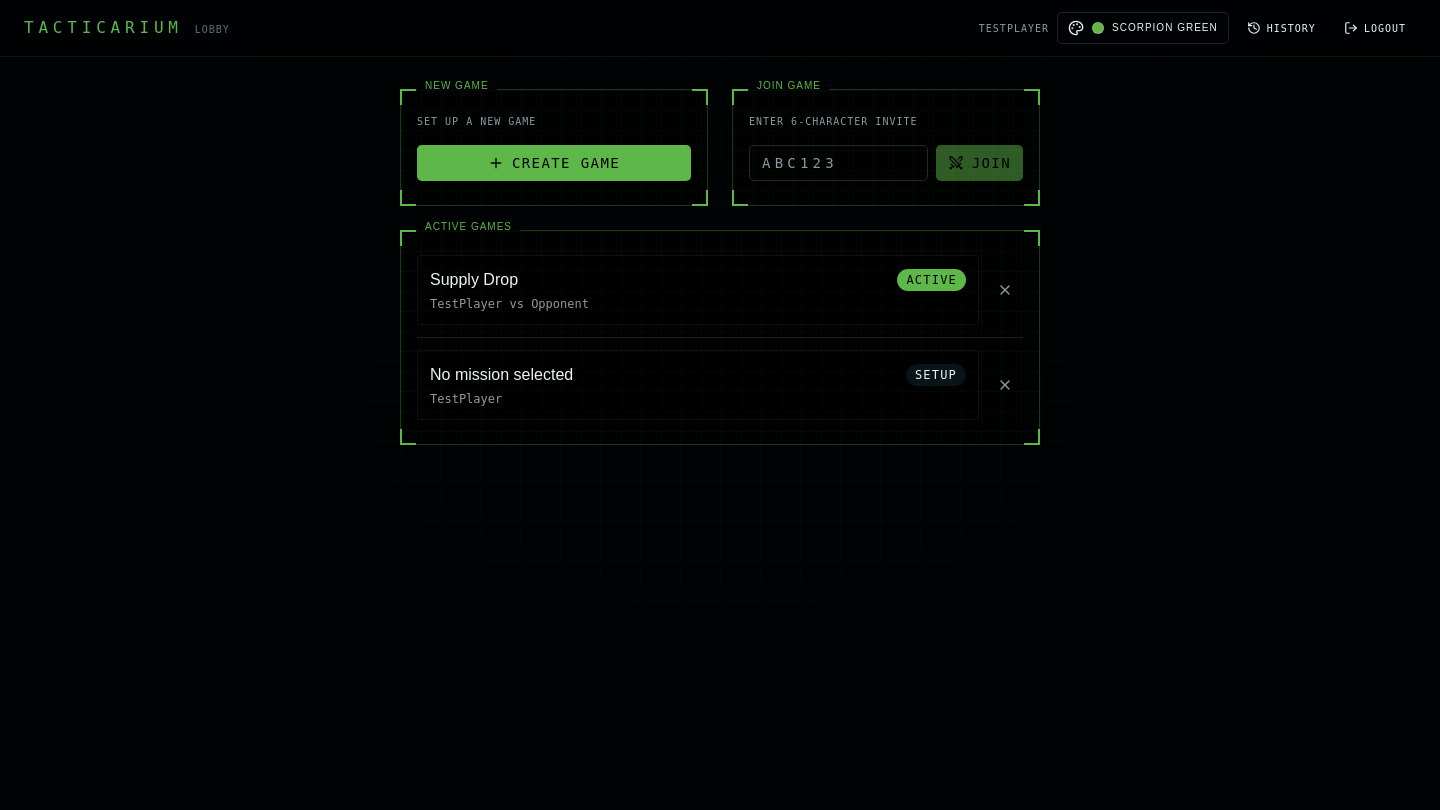
Test: LobbyPage - Remove Game › removes game from list after confirming
The image size is (1440, 810).
Expected: the text "Supply Drop" is shown, [430,268,518,292]
Click the 1st button named "Remove game".
click(1005, 290)  # box [987,272,1023,308]
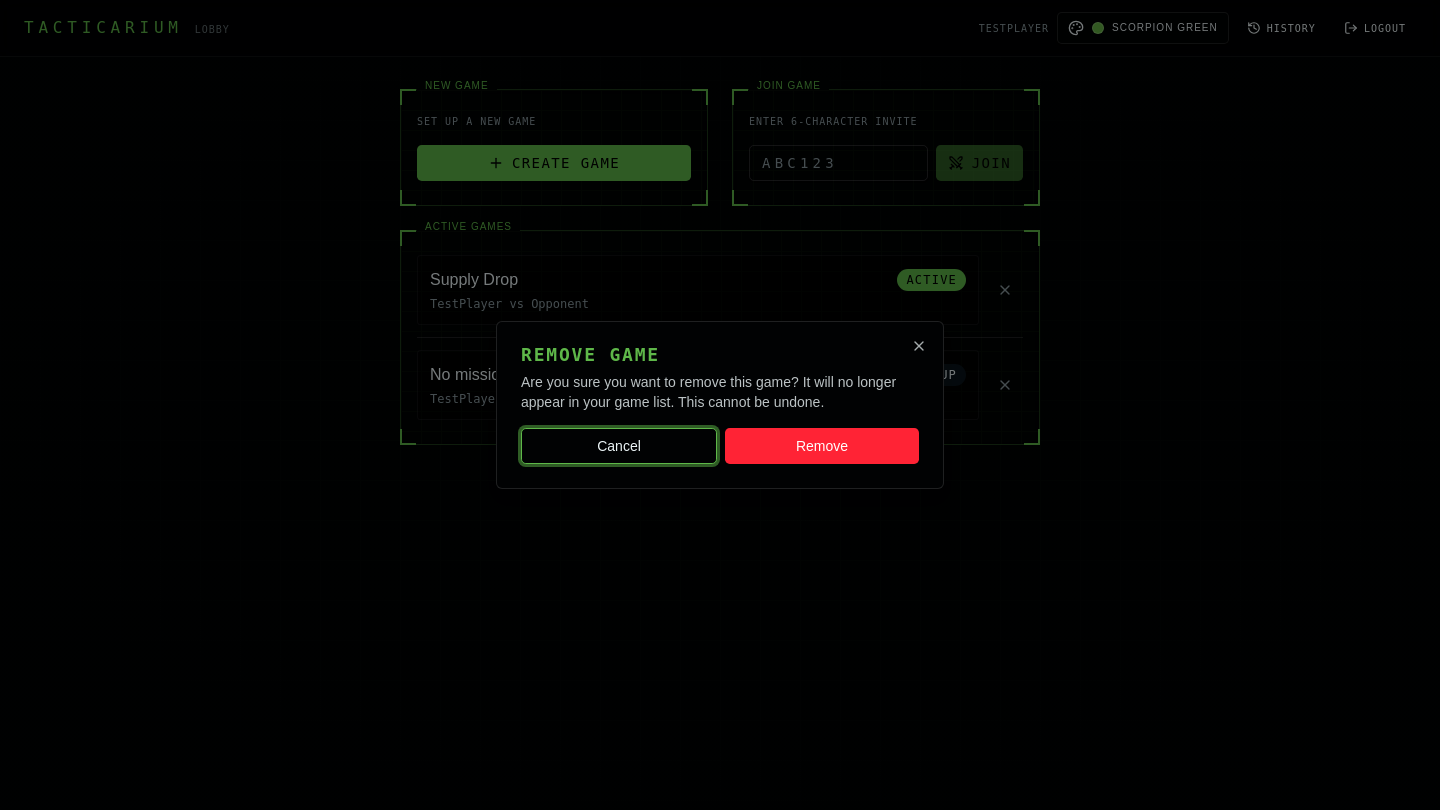
Click the button "Remove".
click(822, 446)  # box [725,428,919,464]
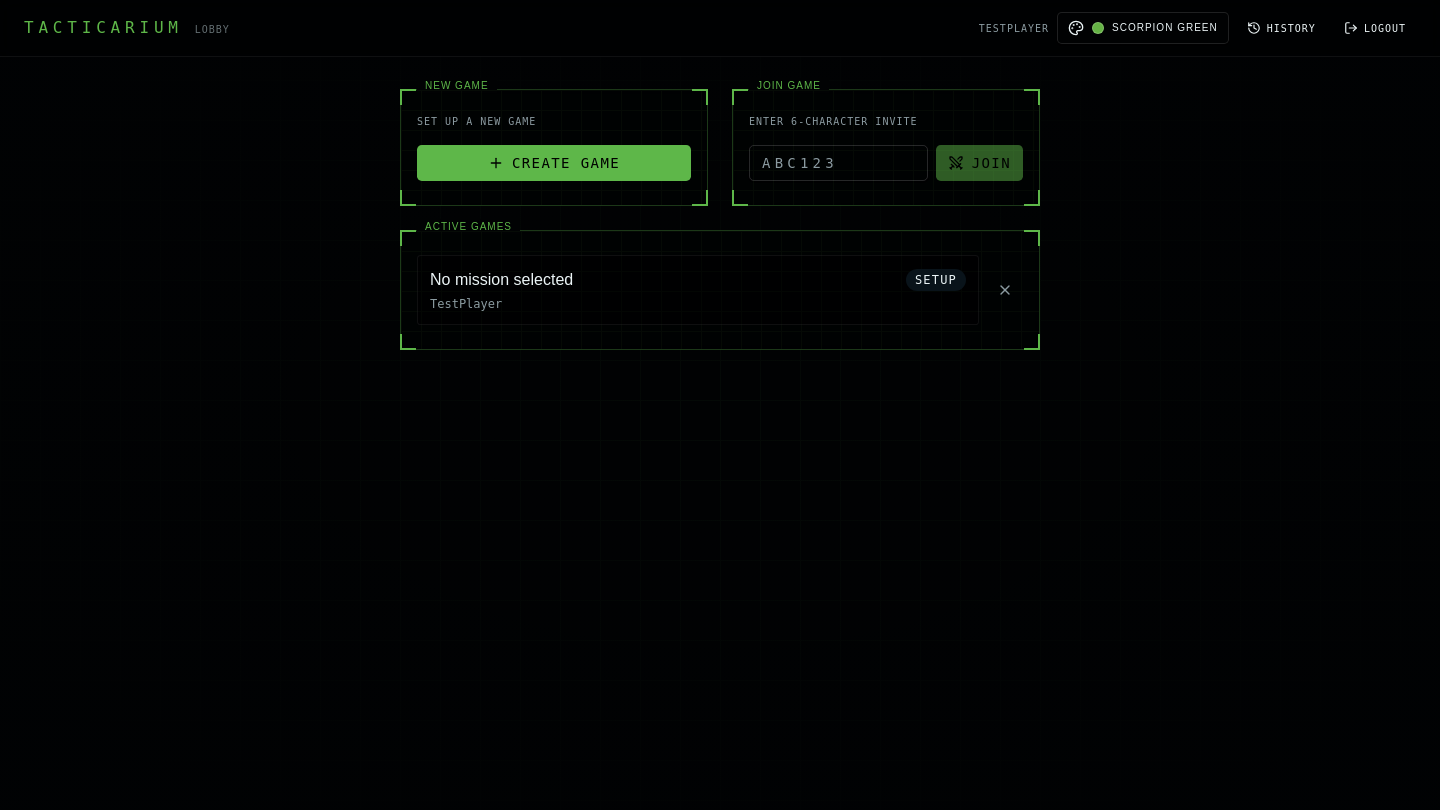
Expected: the text "No mission selected" is shown, [430,268,573,292]
Expected: the button "Supply Drop" is gone
